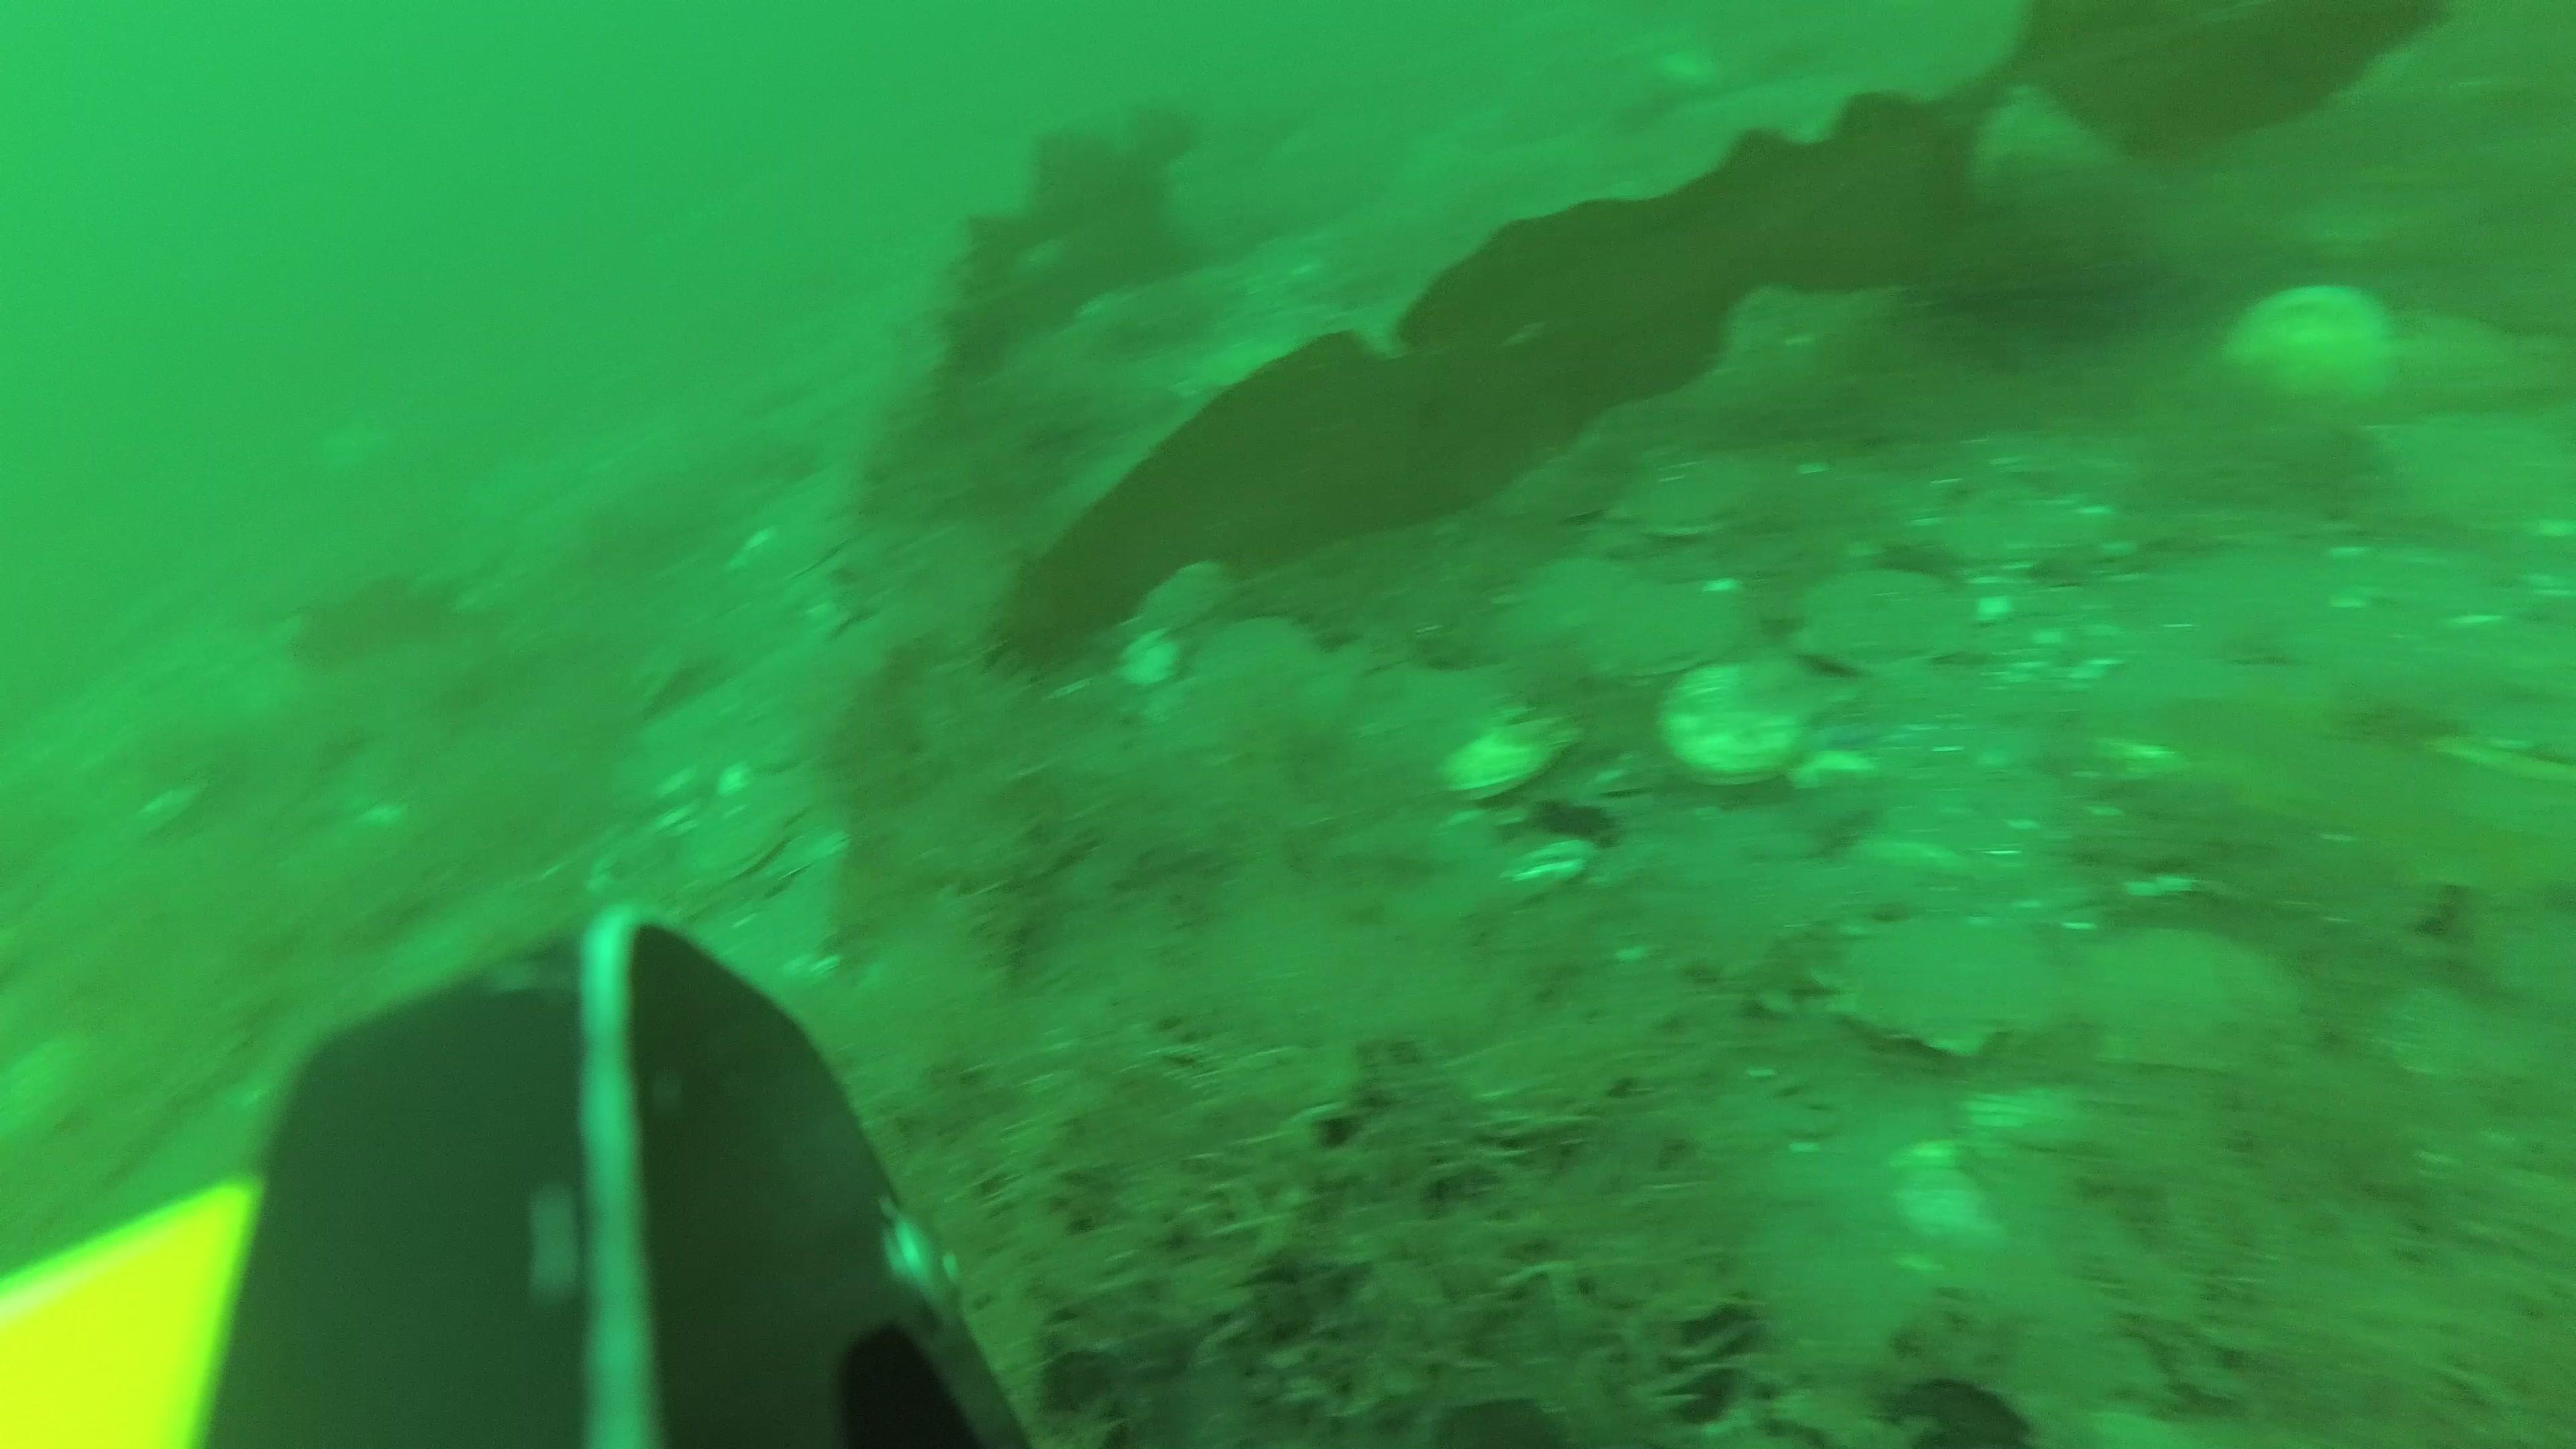scallop: (2079, 916, 2298, 1077), (1842, 915, 2051, 1053), (2227, 280, 2399, 423), (1663, 662, 1838, 786), (1803, 559, 1966, 672), (1591, 582, 1753, 694), (1447, 704, 1585, 816), (1637, 444, 1766, 547), (1950, 479, 2068, 580), (1493, 552, 1626, 639), (1198, 617, 1322, 706), (688, 780, 791, 878)
